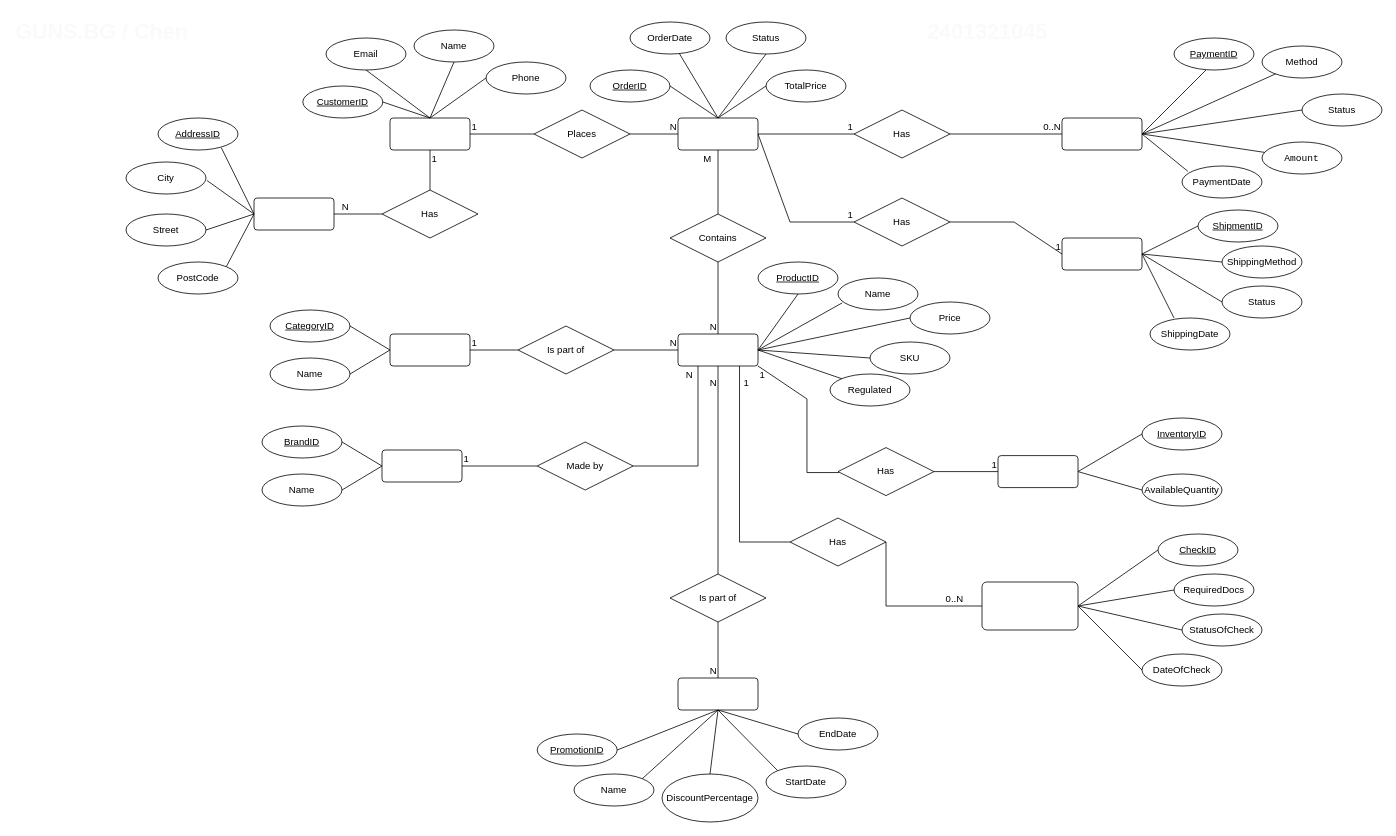
This 1396x836 diagram has some shape labels left out. The shapes that lost their labels are listed below. From the top down, each one's centre as x and y in pixels, then its label:
At point (429, 133): "Customer".
At point (717, 133): "Order".
At point (1101, 133): "Payment".
At point (293, 213): "Address".
At point (1101, 253): "Shipment".
At point (429, 349): "Category".
At point (717, 349): "Product".
At point (421, 465): "Brand".
At point (1037, 471): "Inventory".
At point (1029, 605): "ComplienceCheck".
At point (717, 693): "Promotion".
